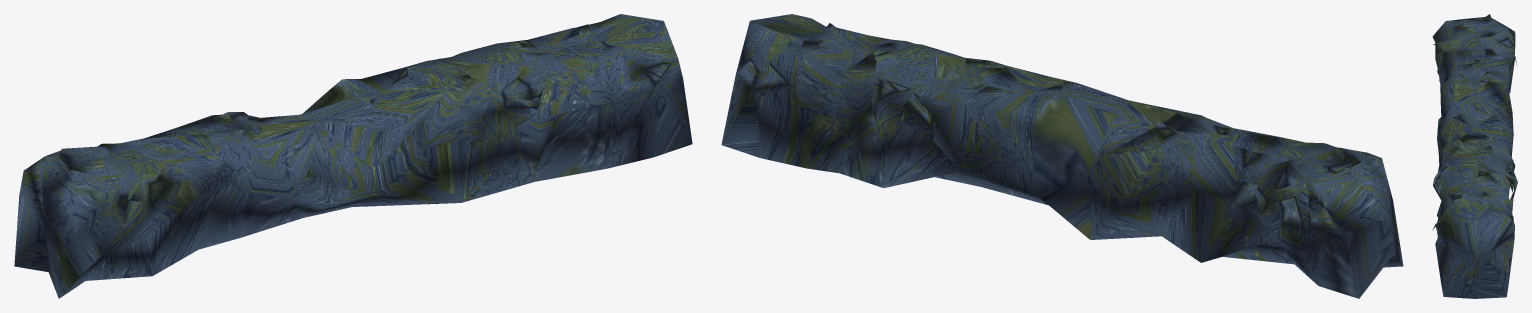
Rendered from cliff.glb.
3 renders of one model, left to right at view 1: azimuth 30°, elevation 25°; view 2: azimuth 150°, elevation 25°; view 3: azimuth 270°, elevation 25°, orthographic. The views are drawn at different scales.
Size of the model in its own units: 1.9 by 0.3378 by 0.3251.
Materials: 1 (1 with a texture image).
